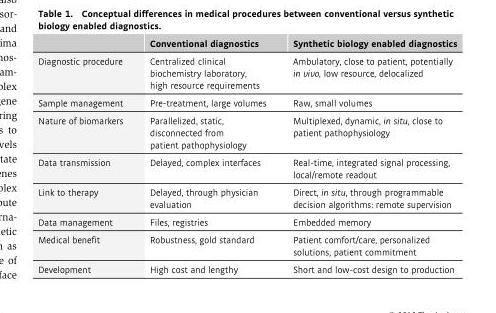table: (37, 37, 456, 273)
table column: (278, 37, 456, 273), (135, 37, 278, 273), (37, 37, 135, 273)
table column header: (37, 37, 456, 51)
table row: (37, 51, 456, 93), (37, 111, 456, 152), (37, 152, 456, 182), (37, 182, 456, 212), (37, 230, 456, 259), (37, 93, 456, 111), (37, 212, 456, 230), (37, 37, 456, 51), (37, 259, 456, 273)
